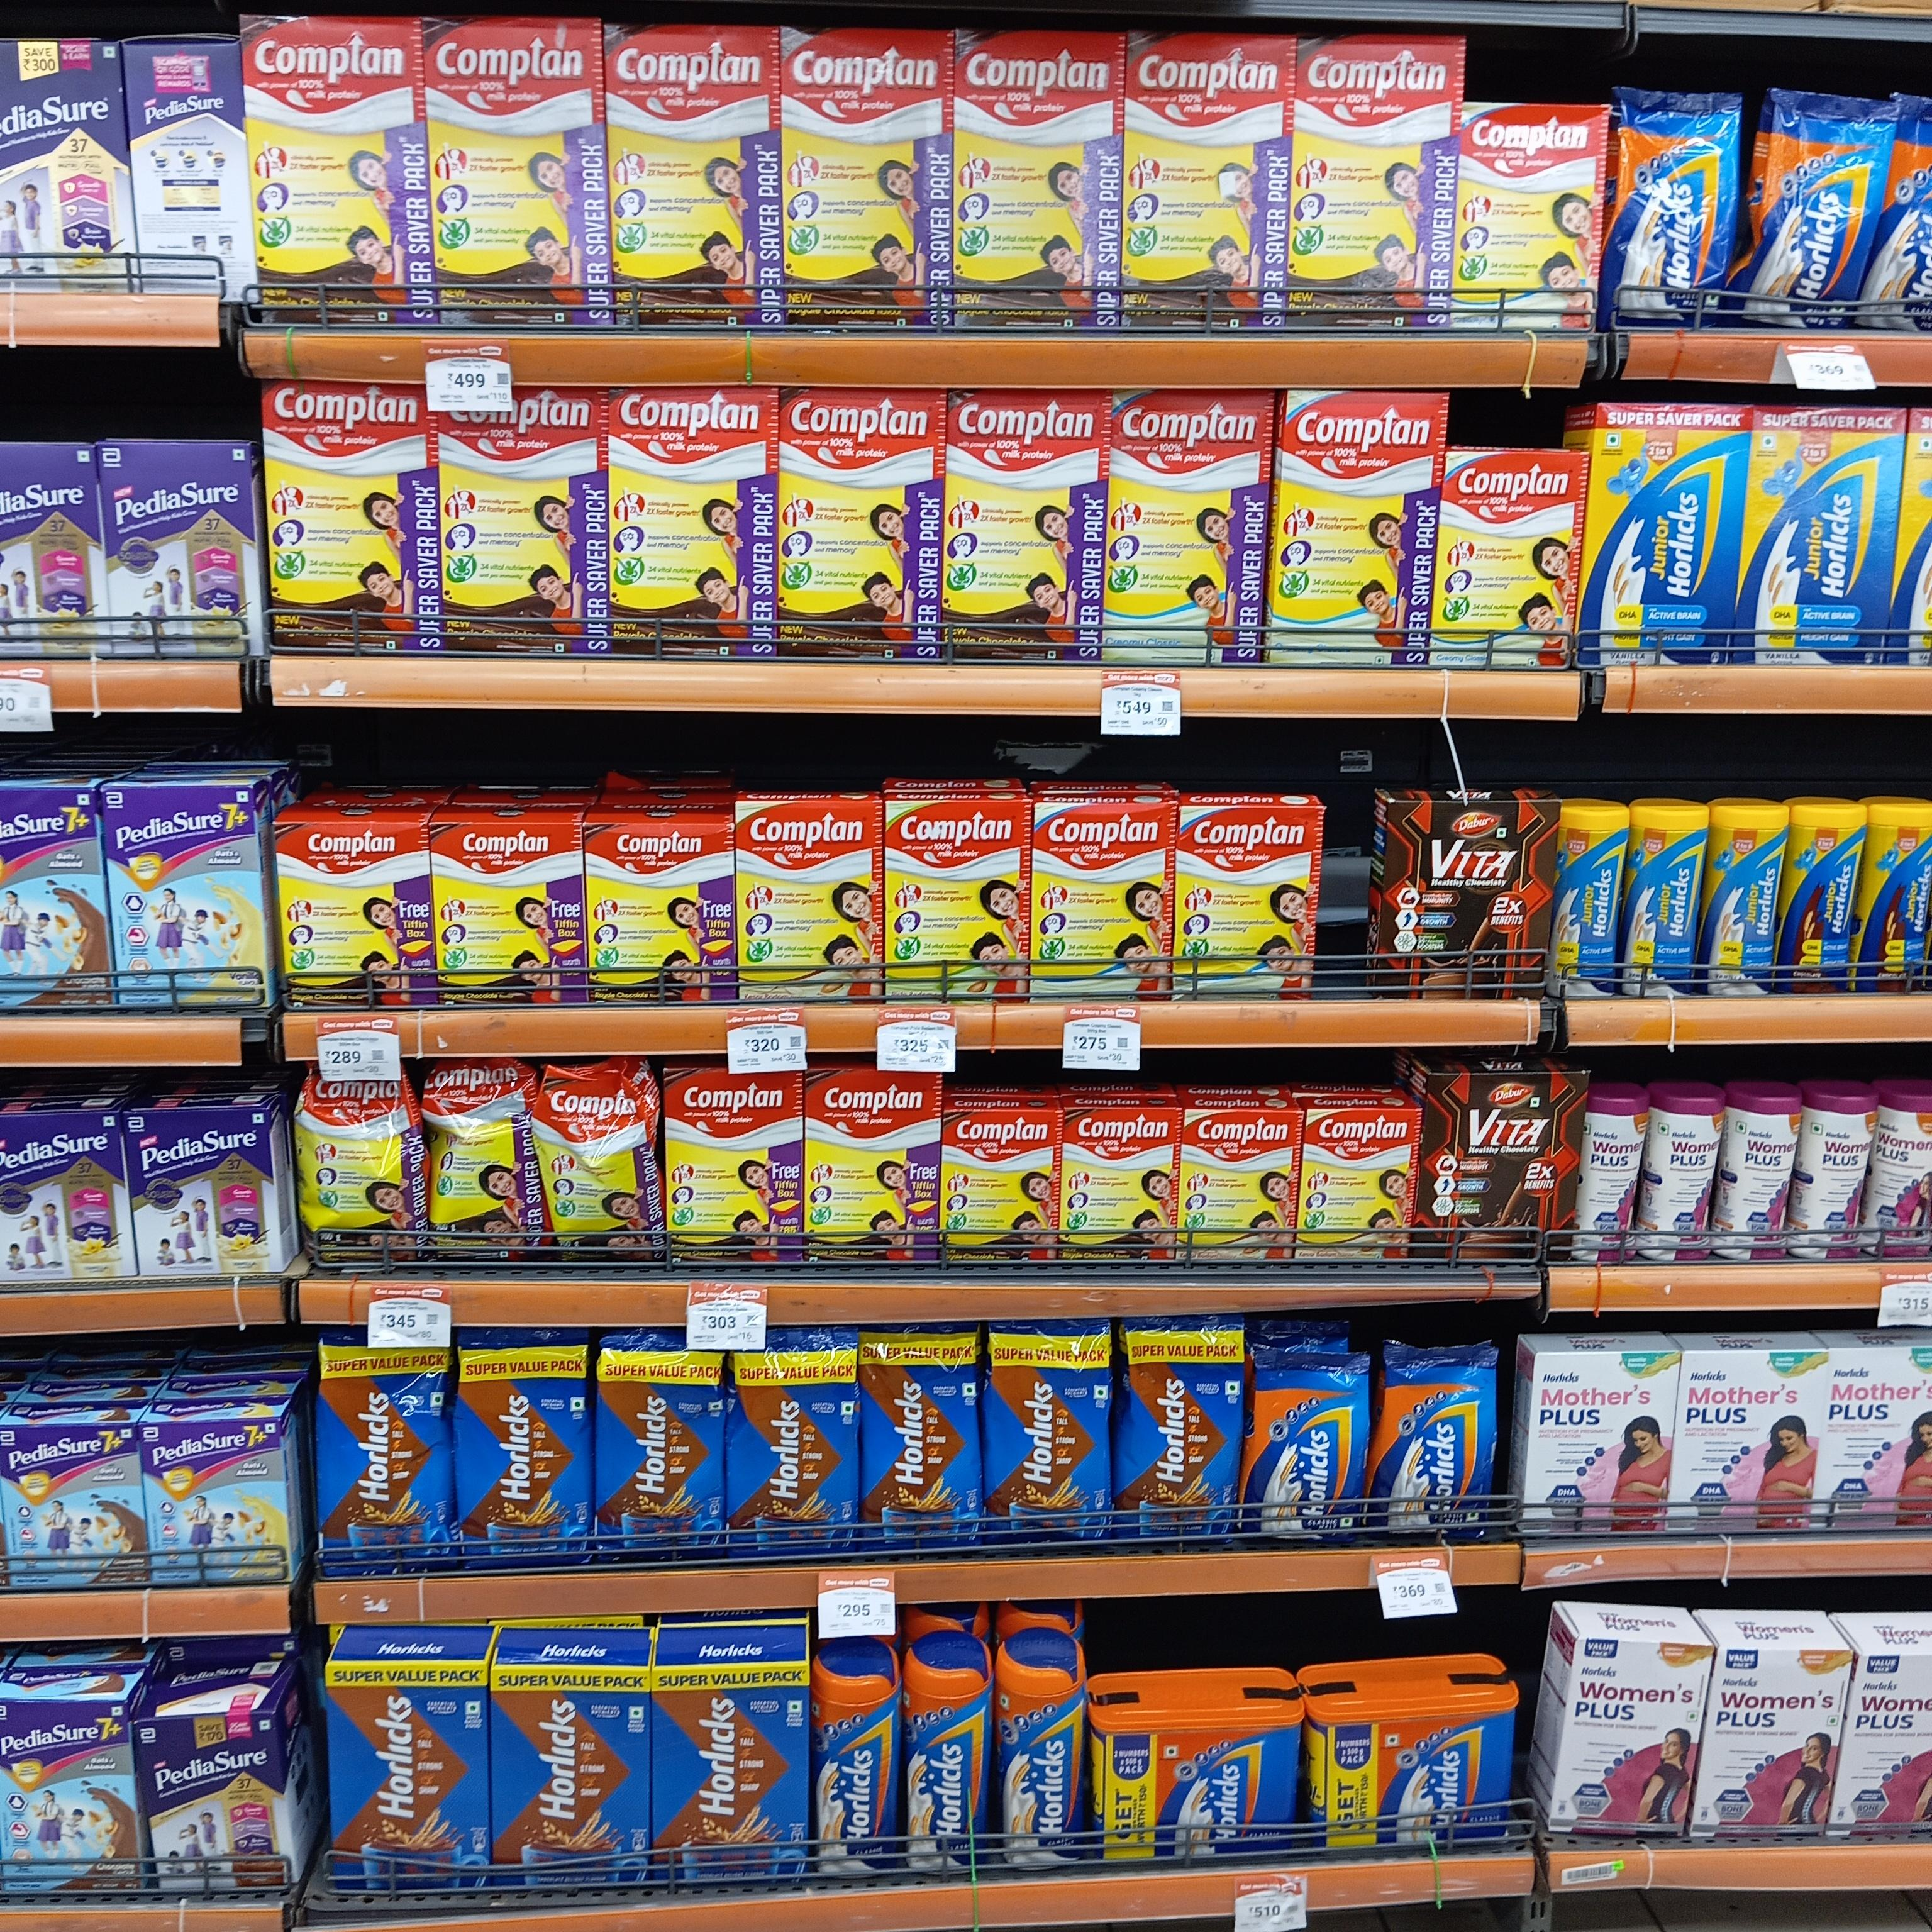COMPLAN_CHOCOLATE_1_KG_PACK: (246, 16, 428, 326), (428, 19, 609, 327), (612, 23, 780, 333), (782, 28, 950, 331), (959, 27, 1118, 333), (1127, 34, 1286, 333), (265, 379, 437, 653), (1293, 41, 1451, 333), (441, 391, 605, 663), (612, 387, 777, 660), (778, 384, 938, 660), (947, 389, 1102, 663), (667, 1069, 800, 1265), (805, 1072, 936, 1265)
COMPLAN_CHOCOLATE_500_GMS_PACK: (432, 821, 580, 1008), (586, 821, 732, 1005), (276, 823, 421, 1008), (941, 1109, 1054, 1267), (1062, 1106, 1173, 1263)
COMPLAN_CREAMY_CLASSIC_500_G_PACK: (1460, 101, 1596, 331), (1444, 451, 1571, 672), (1178, 805, 1316, 1000), (1035, 800, 1168, 1001)
COMPLAN_KESAR_BADAM_500_GMS_PACK: (734, 800, 878, 1001), (1185, 1111, 1295, 1265), (1307, 1111, 1415, 1267)
COMPLAN_PISTA_BADAM_500_GMS_PACK: (883, 798, 1021, 998)
COMPLAN_RC_POUCH_700_GMS_12: (299, 1074, 416, 1269), (426, 1060, 538, 1261), (541, 1069, 646, 1267)
HORLICKS_JUNIOR_VANILLA_500_GM_JAR: (1626, 803, 1707, 1003), (1711, 803, 1783, 998), (1555, 801, 1624, 1001)
HORLICK_CHOCOLATE_1_KG_PACK: (331, 1670, 487, 1905), (494, 1661, 646, 1898), (655, 1668, 798, 1891)
HORLICK_CHOCOLATE_750_G_POUCH: (460, 1334, 587, 1573), (598, 1336, 725, 1568), (320, 1343, 444, 1576), (860, 1318, 978, 1553), (731, 1338, 855, 1559), (1125, 1322, 1240, 1555), (987, 1323, 1108, 1545)
HORLICK_CLASSIC_MALT_500_G_PACK: (998, 1649, 1085, 1863), (814, 1663, 899, 1879), (908, 1652, 989, 1875)
HORLICK_CLASSIC_MALT_750_G_POUCH: (1614, 87, 1739, 326), (1764, 94, 1875, 329), (1251, 1348, 1362, 1543), (1384, 1341, 1490, 1534)
HORLICK_MALT_1_KG_CONTAINER: (1313, 1698, 1518, 1856), (1093, 1707, 1299, 1859)
PEDIASURE_7_PLUS_CHOCOLATE_400_G_PACK: (0, 1698, 133, 1902), (0, 1419, 142, 1592)
PEDIASURE_VANILLA_500_G_PACK: (103, 437, 248, 660), (0, 39, 127, 292), (129, 1111, 278, 1279), (0, 1115, 129, 1284)
